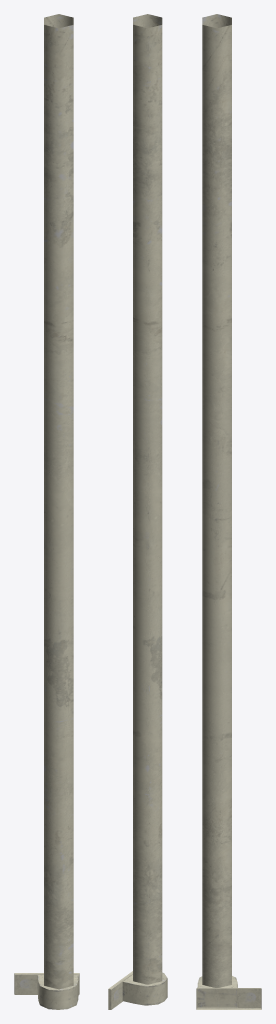
The model's file is SM_Wall_Electrical_Wire_Casing_05b.fbx.
3 renders of one model, left to right at view 1: azimuth 90°, elevation 25°; view 2: azimuth 150°, elevation 25°; view 3: azimuth 270°, elevation 25°, orthographic.
Visible parts, largest first — view 1: SM_Wall_Electrical_Wire_Casing_05b_LOD0; view 2: SM_Wall_Electrical_Wire_Casing_05b_LOD0; view 3: SM_Wall_Electrical_Wire_Casing_05b_LOD0.
Part boxes in pixels (<box>): SM_Wall_Electrical_Wire_Casing_05b_LOD0: <box>14,14,79,1009</box>; SM_Wall_Electrical_Wire_Casing_05b_LOD0: <box>108,14,167,1009</box>; SM_Wall_Electrical_Wire_Casing_05b_LOD0: <box>196,14,261,1009</box>.
Bounding box in the file's own units: 2.68 × 4.41 × 73.
Materials: 1 (1 with a texture image).
